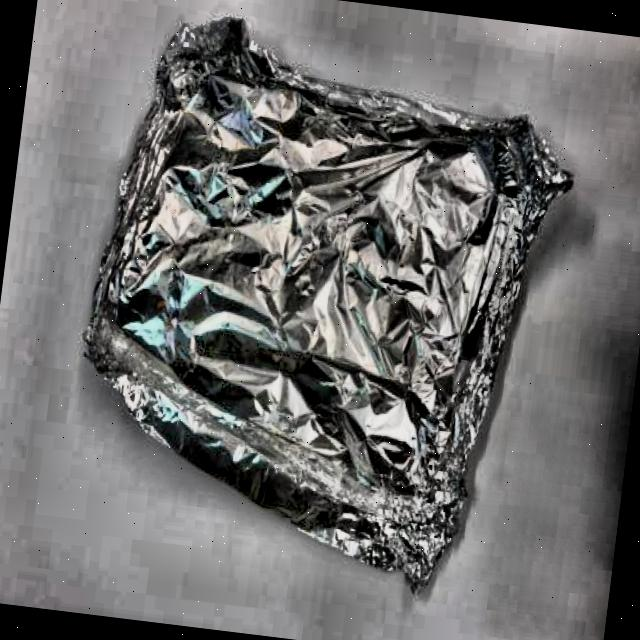metal: (59, 2, 584, 594)
